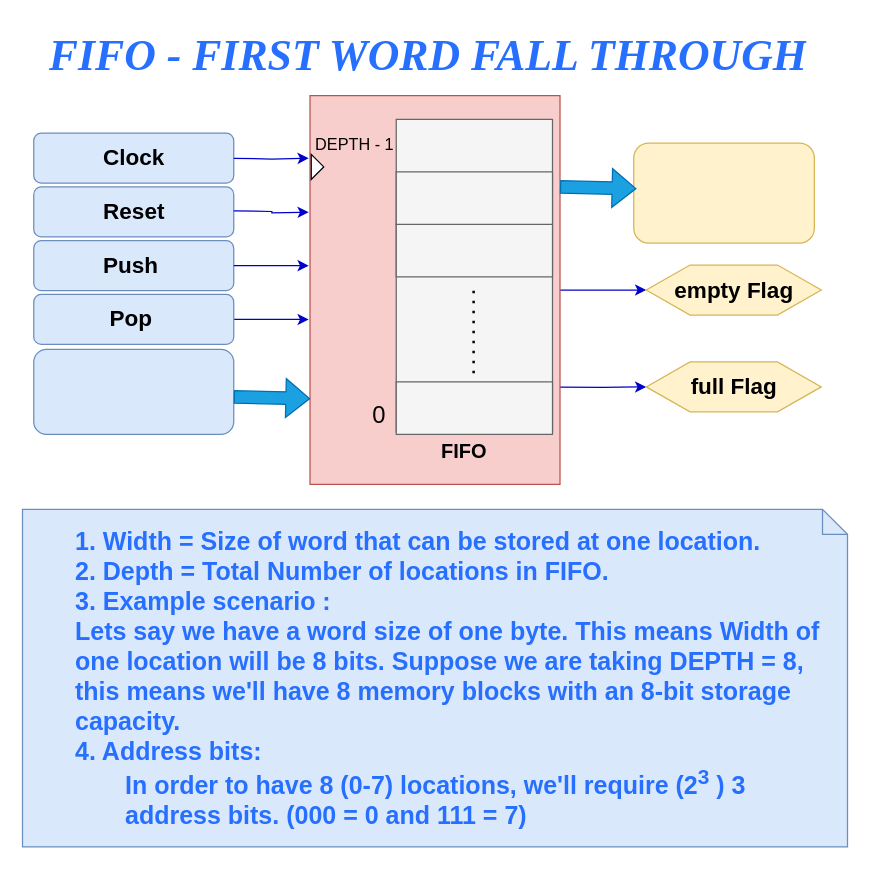
Image size: 869x869. Some labels were removed from this diagram. Here are the shapes that lost their labels. From the top down, the centre of each, then its label:
[723,192]: Read - Data Output
[133,391]: Write - Data Input
